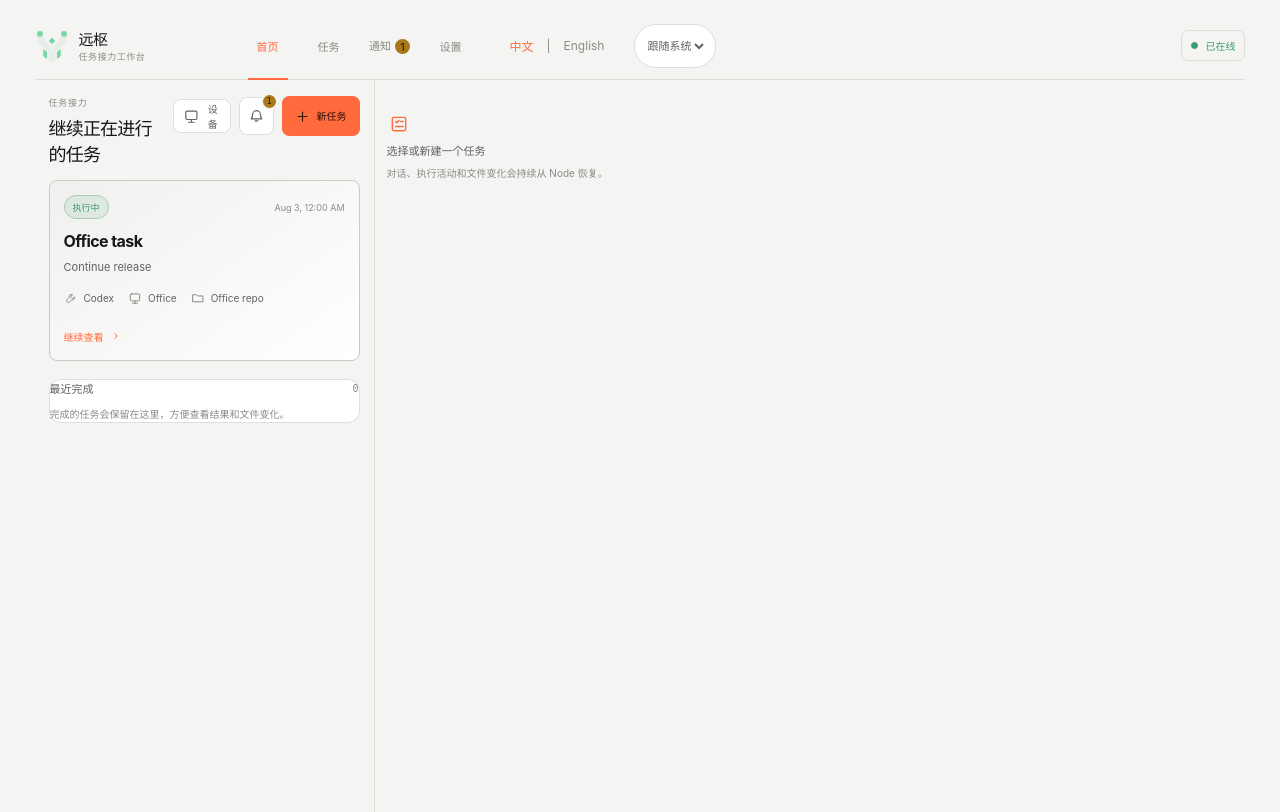
personal workbench › uses the dedicated task and notification navigation views
Step 1. Click the button "任务" → (328, 46), box x1=300 y1=12 x2=358 y2=79
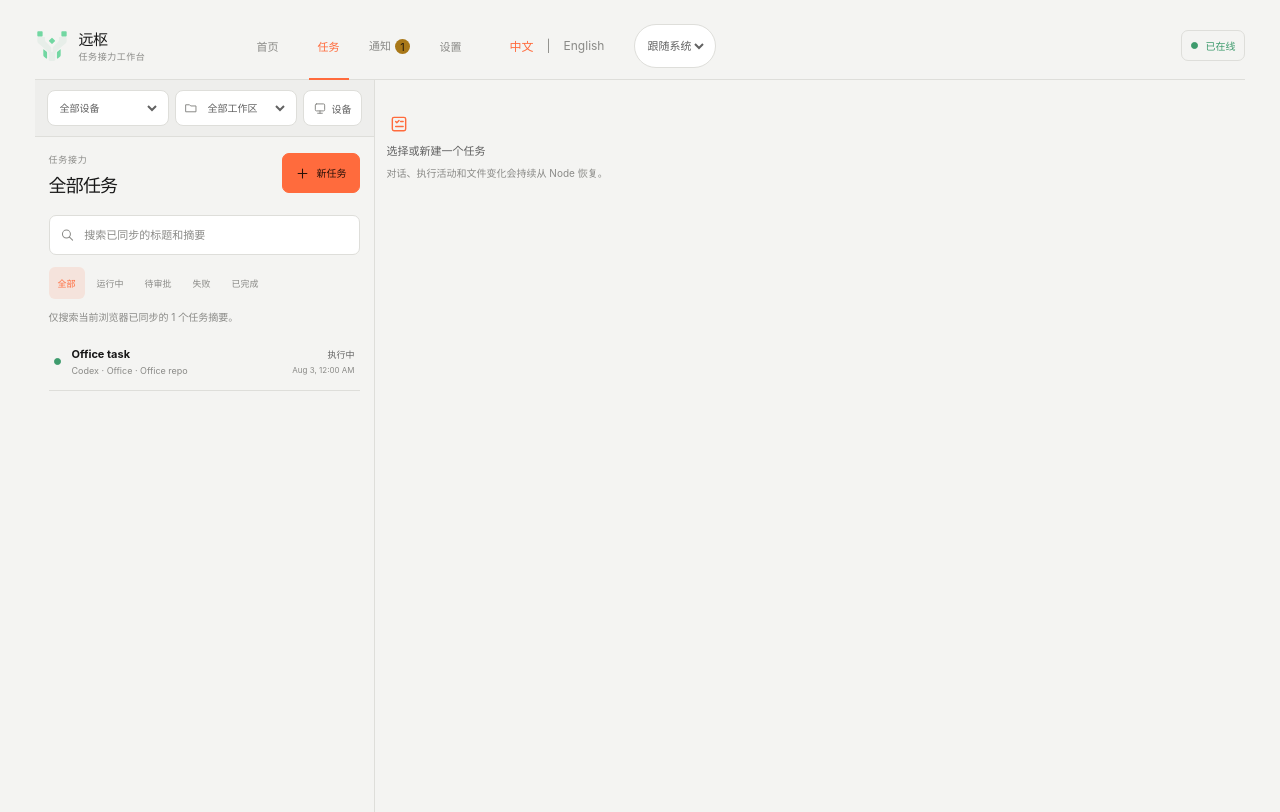
Expected: the heading "全部任务" is shown, x1=48 y1=171 x2=117 y2=197
Step 2. Type "missing" into the field with placeholder "搜索已同步的标题和摘要" → (215, 235), box x1=82 y1=227 x2=349 y2=243
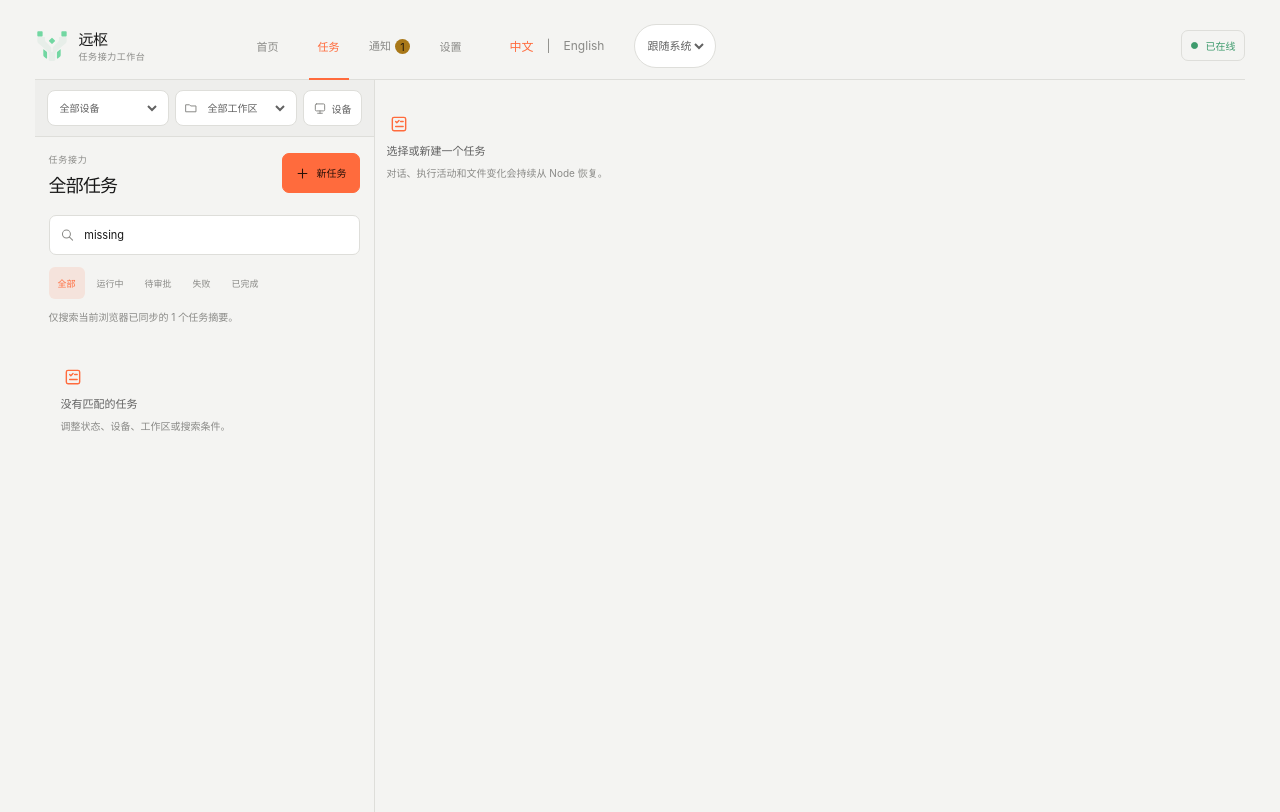
Expected: the text "没有匹配的任务" is shown, x1=60 y1=395 x2=138 y2=411
Step 3. Click the button "通知 1" → (390, 46), box x1=360 y1=12 x2=418 y2=79
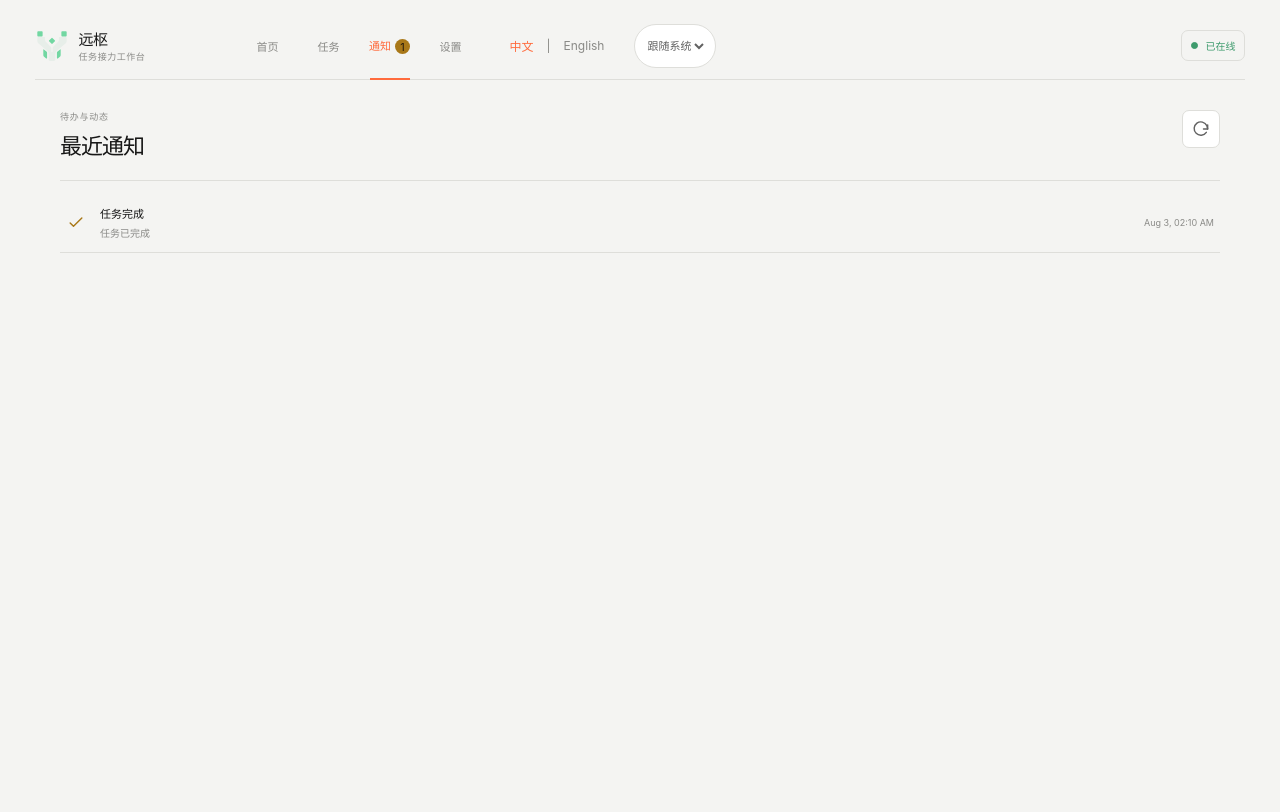
Expected: the heading "最近通知" is shown, x1=60 y1=128 x2=144 y2=160
Expected: the text "任务已完成" is shown, x1=100 y1=227 x2=150 y2=239
